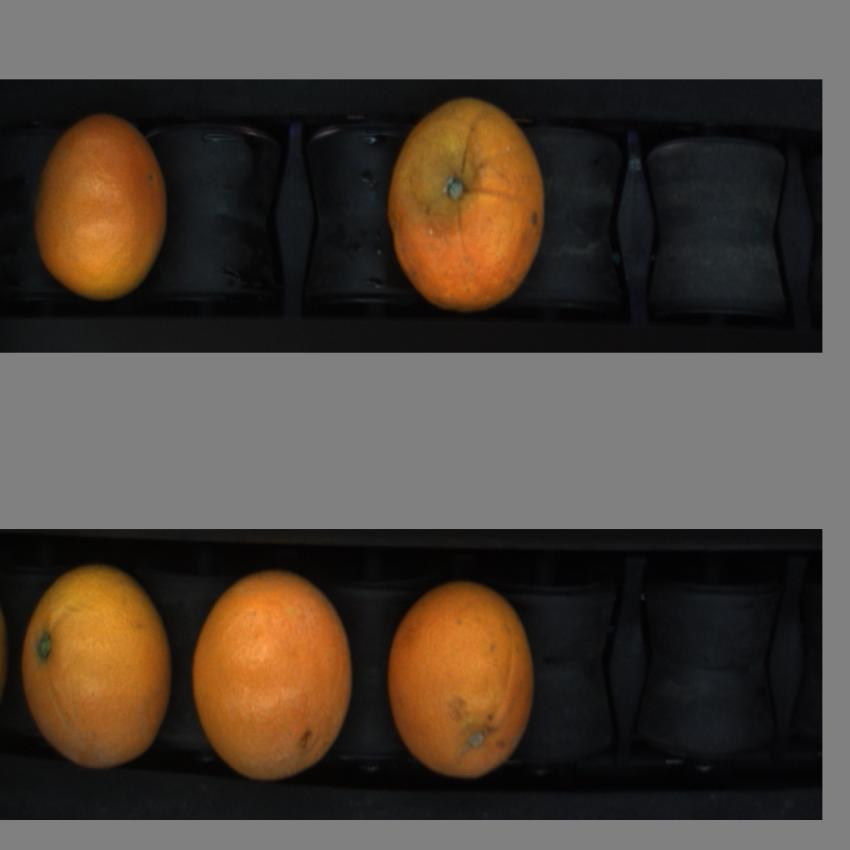Buen estado: (193, 569, 358, 790), (20, 561, 173, 781), (385, 578, 544, 786), (28, 114, 188, 304)
Mal estado: (388, 97, 563, 311)
